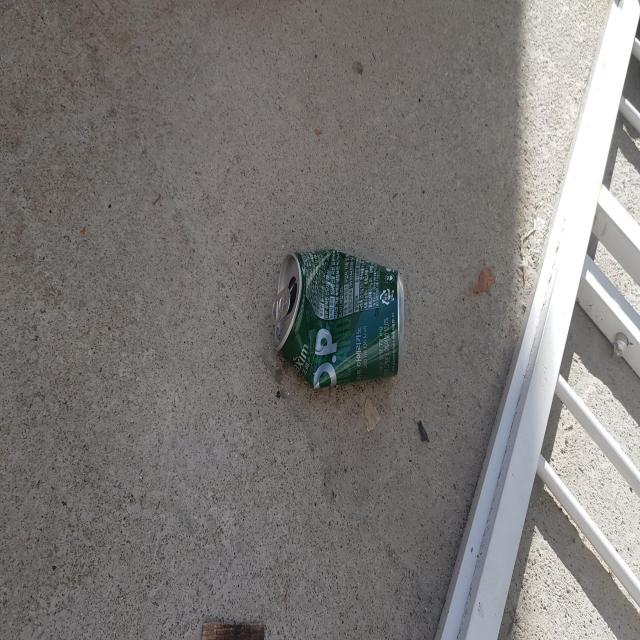can: (272, 248, 404, 388)
